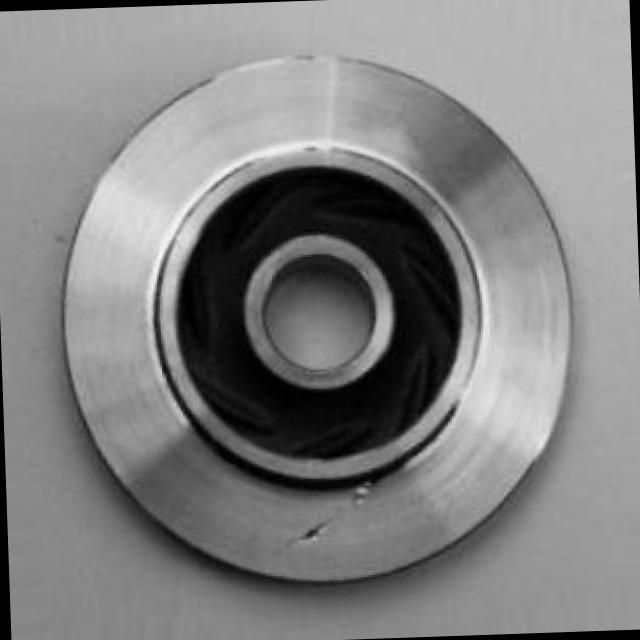Defect: (290, 512, 345, 547)
